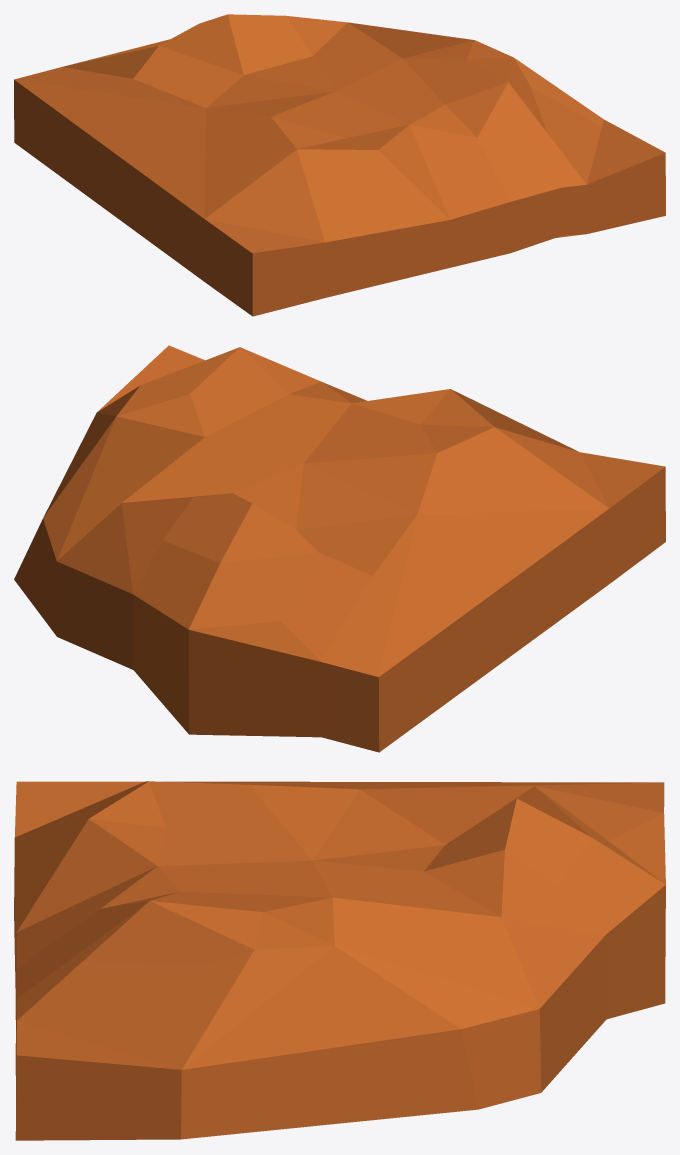
Rendered from Path Curve 1.fbx.
The picture shows the model from 3 angles, top to bottom: view 1: azimuth 30°, elevation 25°; view 2: azimuth 150°, elevation 25°; view 3: azimuth 270°, elevation 25°; orthographic projection. The views are drawn at different scales.
Parts seen in each view (by area): view 1: Path Curve 1; view 2: Path Curve 1; view 3: Path Curve 1.
Part boxes in pixels (<box>): Path Curve 1: <box>14,14,665,316</box>; Path Curve 1: <box>14,345,665,752</box>; Path Curve 1: <box>14,781,665,1140</box>.
Bounding box in the file's own units: 5.56 × 1.95 × 5.59.
